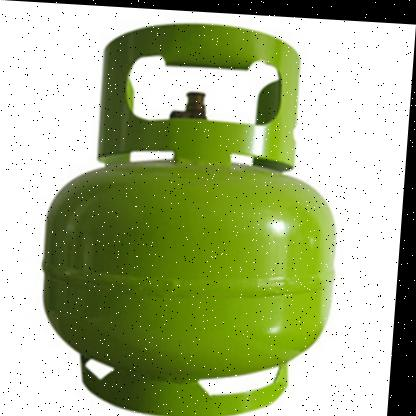gas-tank: (8, 4, 370, 415)
